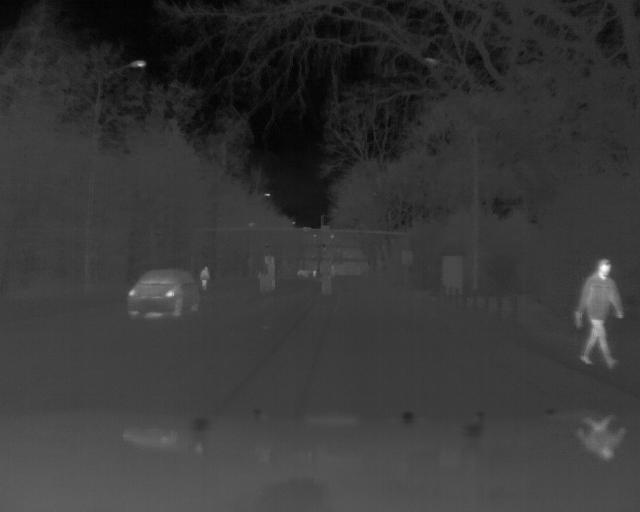car: (124, 268, 200, 323)
person: (575, 255, 628, 369), (198, 264, 211, 293)
